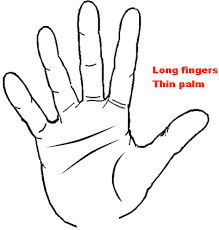palm: (42, 119, 155, 204)
